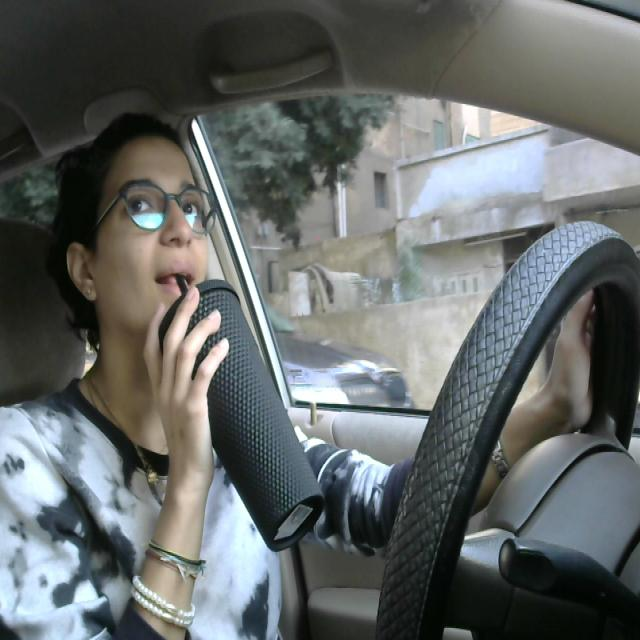drinking: (148, 260, 330, 553)
